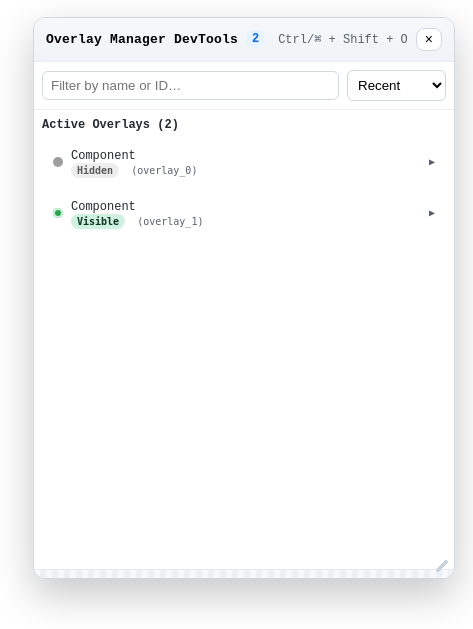
Test case: DevtoolsPanel selection and sort › touches name sort branch and persists selected id to sessionStorage
Note: Switch to sort by name (ensures name branch is touched)
Step 1. Select "Name" in the dropdown titled "Sort" → x=396, y=85, box top-left (347, 70), bottom-right (446, 101)
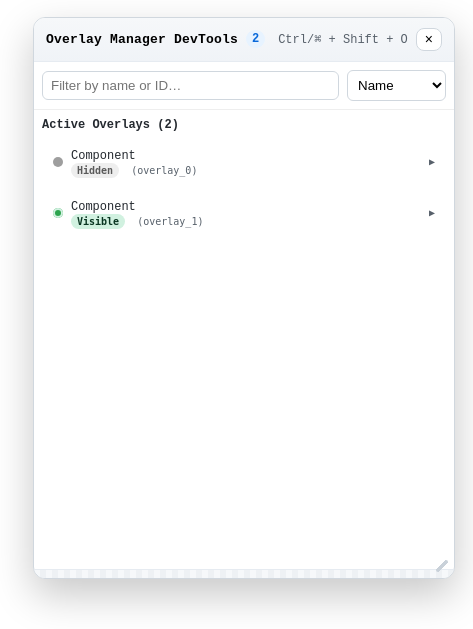
Step 2. Click the list item "Component Hidden (overlay_0) ▶" → x=244, y=162, box top-left (42, 140), bottom-right (446, 185)
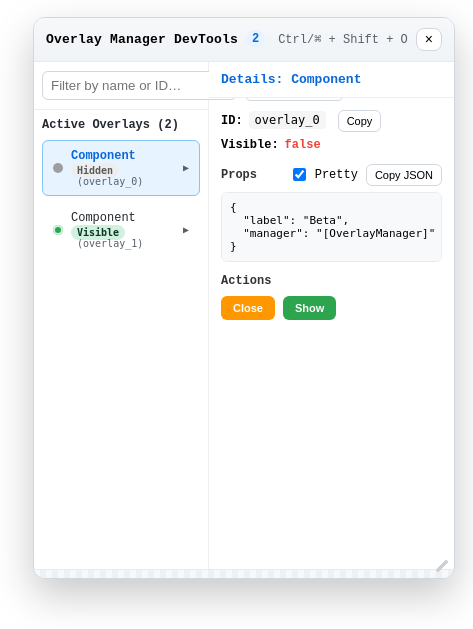
Check: the heading "Details: Component" is shown, box top-left (221, 72), bottom-right (361, 87)
